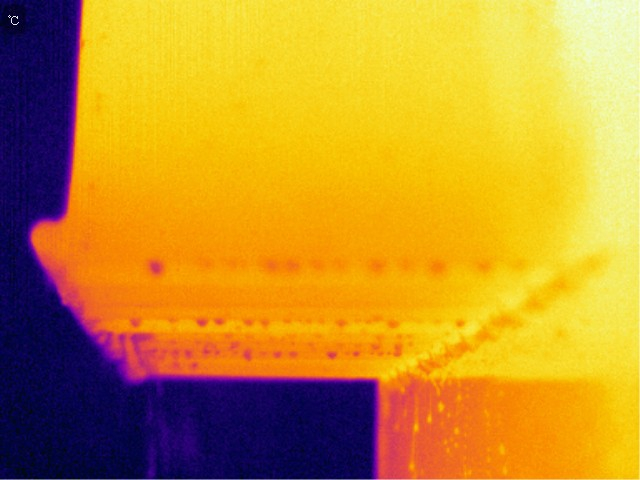Water: (101, 333, 159, 373), (147, 258, 165, 275), (127, 314, 146, 330), (193, 313, 212, 328), (325, 348, 339, 363), (390, 344, 404, 358), (350, 348, 364, 361), (214, 317, 227, 329), (242, 349, 255, 361), (288, 349, 300, 362), (180, 349, 194, 359), (388, 318, 400, 329), (241, 317, 254, 327), (188, 362, 201, 372), (260, 320, 272, 328), (273, 351, 282, 360)
